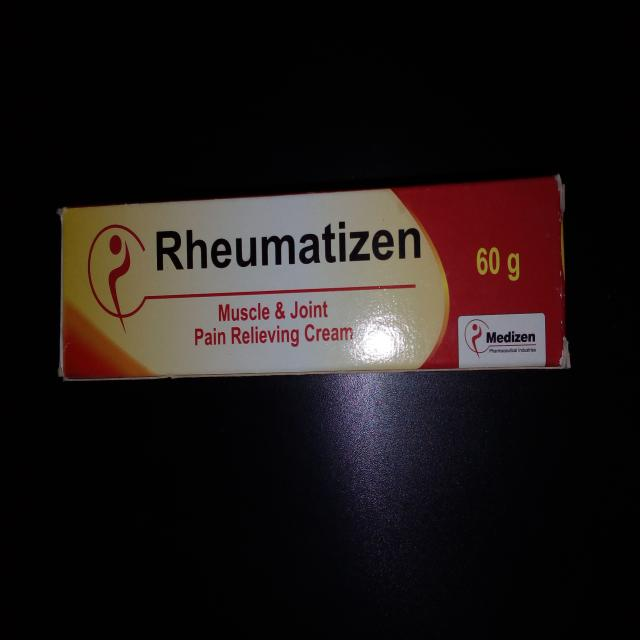Medicine: (54, 166, 576, 383)
